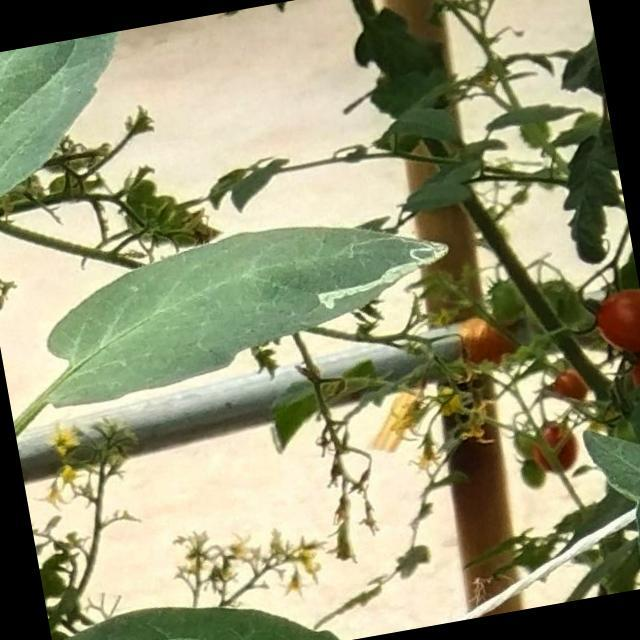Tomato target spot leaf: (20, 190, 470, 418)
